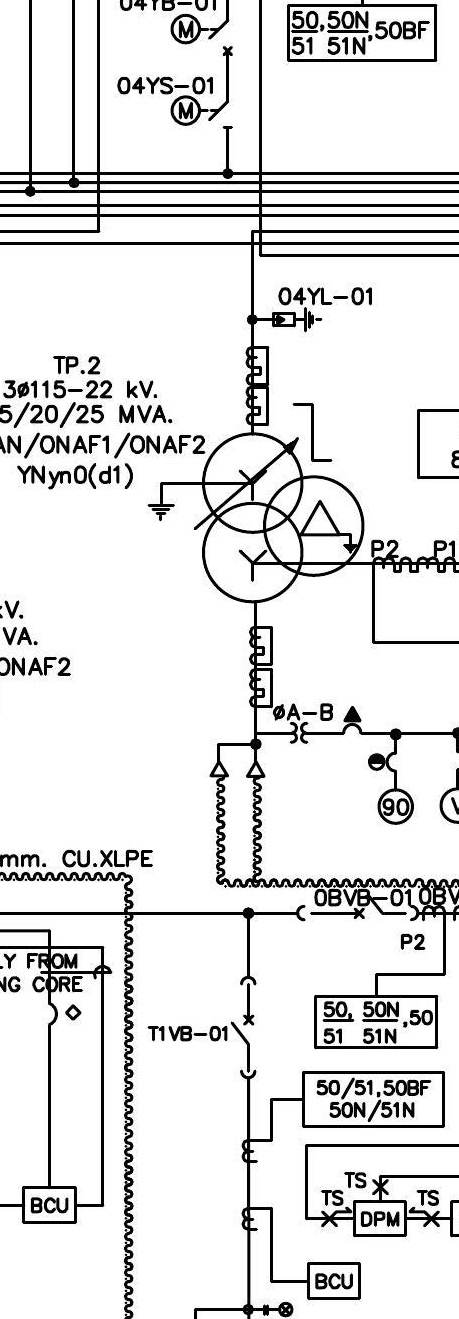11522_tx_ynyn0d1: (201, 431, 366, 605)
115_1way_ds_w_motor: (169, 94, 233, 129)
115_breaker: (207, 20, 234, 57)
115_la: (271, 306, 323, 333)
22_breaker: (295, 895, 420, 922), (230, 976, 257, 1080)
22_ll: (262, 1301, 295, 1318)
BCU: (21, 1185, 78, 1225), (306, 1261, 362, 1301)
DPM: (352, 1199, 407, 1238)
terminator_double: (209, 742, 266, 778)
